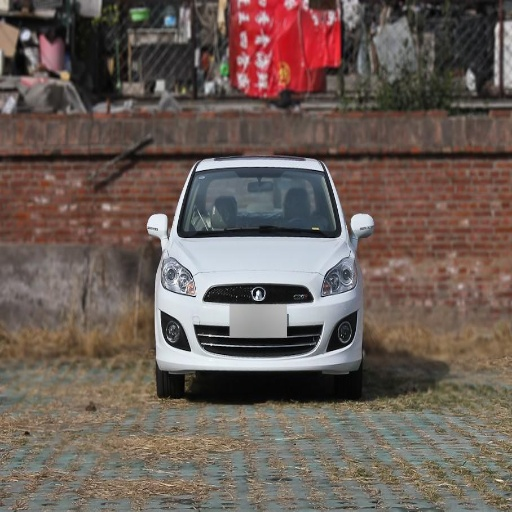front_bumper: (157, 273, 362, 373)
hood: (172, 237, 348, 282)
